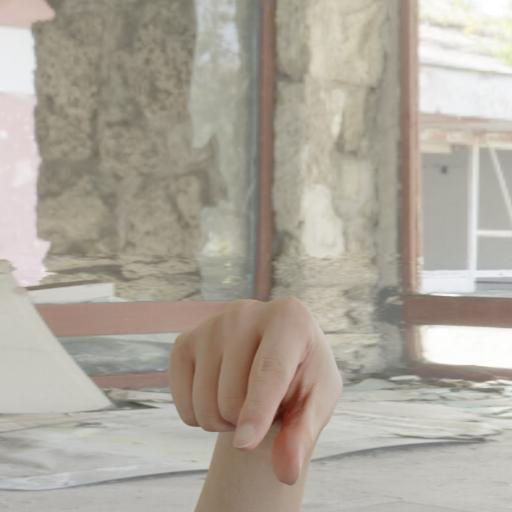Q: (166, 294, 346, 488)
